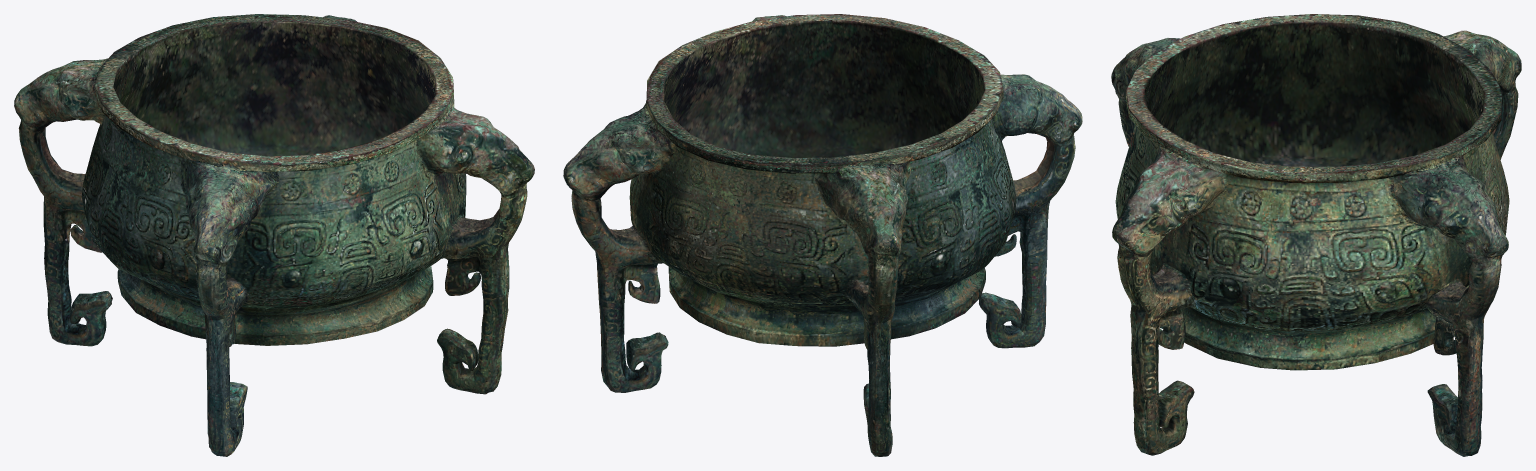
3 views of the same model, side by side, from view 1: azimuth 30°, elevation 25°; view 2: azimuth 150°, elevation 25°; view 3: azimuth 270°, elevation 25° (orthographic). The views are drawn at different scales.
Parts seen in each view (by area): view 1: 文物017ok; view 2: 文物017ok; view 3: 文物017ok.
Boxes of the visible parts, x1=… form: 文物017ok: x1=14, y1=14, x2=534, y2=456; 文物017ok: x1=563, y1=14, x2=1082, y2=456; 文物017ok: x1=1111, y1=14, x2=1521, y2=456.
Size of the model in its own units: 290 by 230 by 289.
